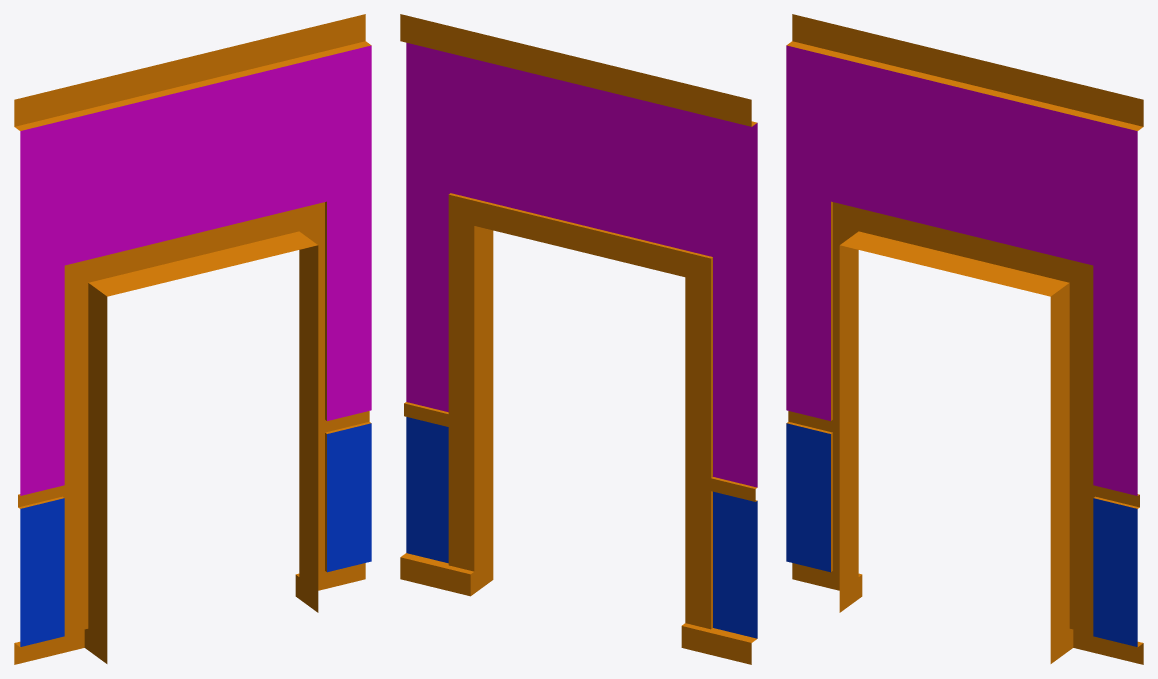
The model's file is Unit_Door.fbx.
3 views of the same model, side by side, from view 1: azimuth 30°, elevation 25°; view 2: azimuth 150°, elevation 25°; view 3: azimuth 330°, elevation 25° (orthographic).
Parts seen in each view (by area): view 1: Unit_Door; view 2: Unit_Door; view 3: Unit_Door.
Part boxes in pixels (box(x1,y1,x2,y2)): Unit_Door: box(14, 14, 371, 664); Unit_Door: box(400, 14, 757, 664); Unit_Door: box(786, 14, 1143, 664).
Size of the model in its own units: 2 by 3.07 by 0.2237.
